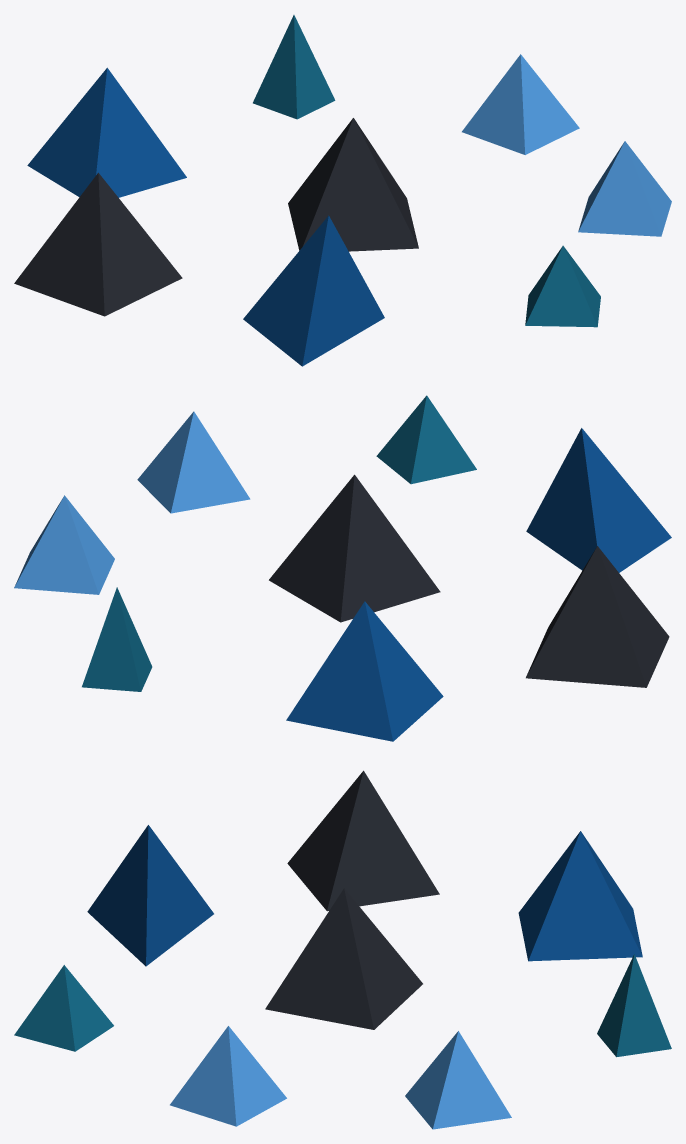
The model's file is Bruh.gltf.
3 views of the same model, one above another, from view 1: azimuth 30°, elevation 25°; view 2: azimuth 150°, elevation 25°; view 3: azimuth 270°, elevation 25° (orthographic). The views are drawn at different scales.
Visible parts, largest first — view 1: Cube.006, Cube.001, Cube.003, Cube.007, Cube, Cube.005, Cube.002, Cube.004; view 2: Cube.007, Cube.006, Cube.003, Cube.001, Cube.005, Cube, Cube.004, Cube.002; view 3: Cube.007, Cube.006, Cube.003, Cube.001, Cube.005, Cube, Cube.004, Cube.002.
Part boxes in pixels (x1=…): Cube.006: x1=14, y1=172, x2=182, y2=316; Cube.001: x1=243, y1=215, x2=384, y2=366; Cube.003: x1=27, y1=67, x2=186, y2=197; Cube.007: x1=288, y1=118, x2=418, y2=251; Cube: x1=462, y1=54, x2=579, y2=154; Cube.005: x1=578, y1=141, x2=671, y2=236; Cube.002: x1=253, y1=15, x2=335, y2=119; Cube.004: x1=525, y1=245, x2=600, y2=327; Cube.007: x1=269, y1=474, x2=440, y2=622; Cube.006: x1=526, y1=546, x2=669, y2=687; Cube.003: x1=286, y1=601, x2=443, y2=741; Cube.001: x1=526, y1=428, x2=671, y2=572; Cube.005: x1=137, y1=411, x2=250, y2=513; Cube: x1=14, y1=495, x2=114, y2=594; Cube.004: x1=376, y1=395, x2=476, y2=484; Cube.002: x1=82, y1=587, x2=152, y2=691; Cube.007: x1=265, y1=888, x2=422, y2=1029; Cube.006: x1=287, y1=770, x2=439, y2=911; Cube.003: x1=518, y1=831, x2=642, y2=961; Cube.001: x1=87, y1=825, x2=213, y2=966; Cube.005: x1=170, y1=1026, x2=286, y2=1126; Cube: x1=405, y1=1031, x2=511, y2=1129; Cube.004: x1=14, y1=965, x2=113, y2=1051; Cube.002: x1=597, y1=954, x2=671, y2=1057.
Size of the model in its own units: 9.96 by 1.88 by 9.74.
